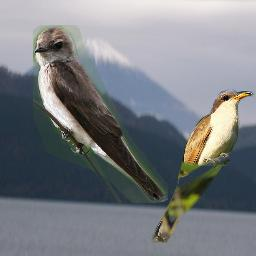Cuckoo: (150, 87, 255, 246)
Swallow: (33, 25, 168, 203)
